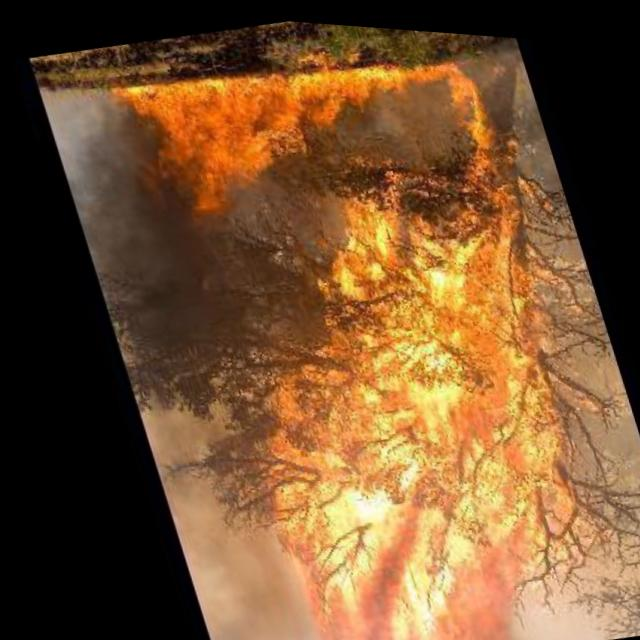Fire: (106, 20, 640, 640)
